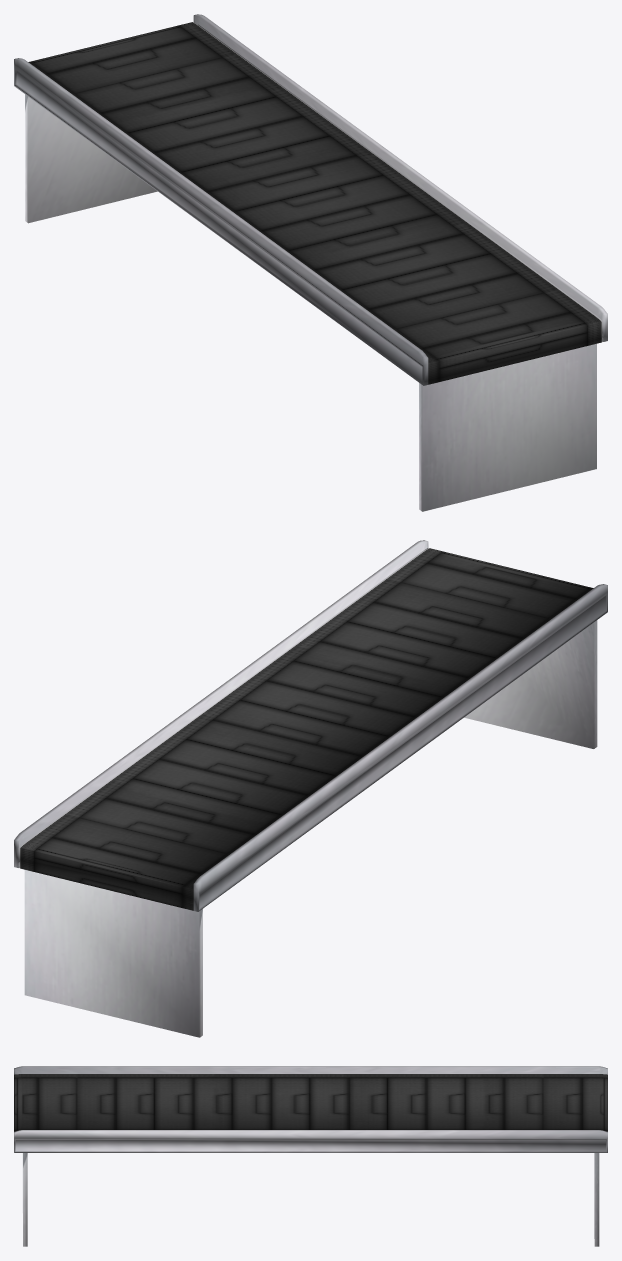
File: Convoyeur_04x.fbx
The picture shows the model from 3 angles, top to bottom: view 1: azimuth 30°, elevation 25°; view 2: azimuth 150°, elevation 25°; view 3: azimuth 270°, elevation 25°; orthographic projection. The views are drawn at different scales.
Parts seen in each view (by area): view 1: Convoyeur_04x; view 2: Convoyeur_04x; view 3: Convoyeur_04x.
Part boxes in pixels (<box>): Convoyeur_04x: <box>14,14,607,511</box>; Convoyeur_04x: <box>14,540,607,1037</box>; Convoyeur_04x: <box>14,1066,607,1246</box>.
Bounding box in the file's own units: 1.04 × 4.01 × 0.8701.
